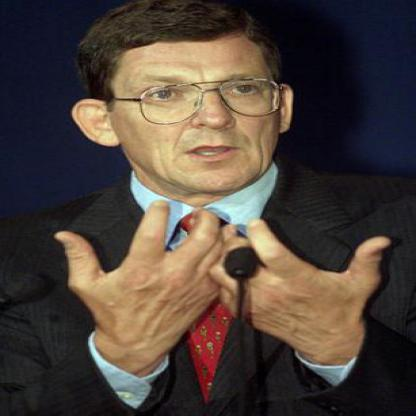face: (108, 1, 284, 197)
